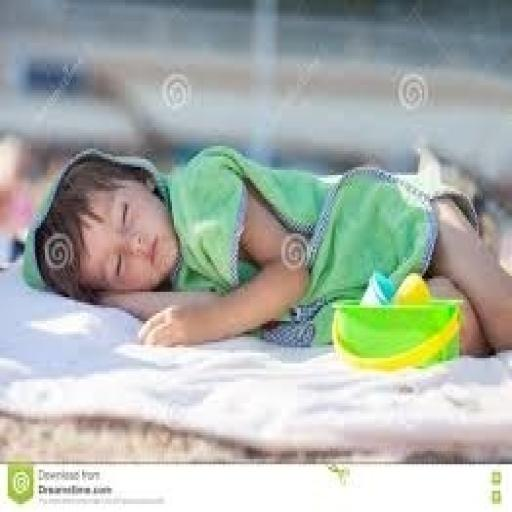sleeping: (20, 141, 510, 358)
